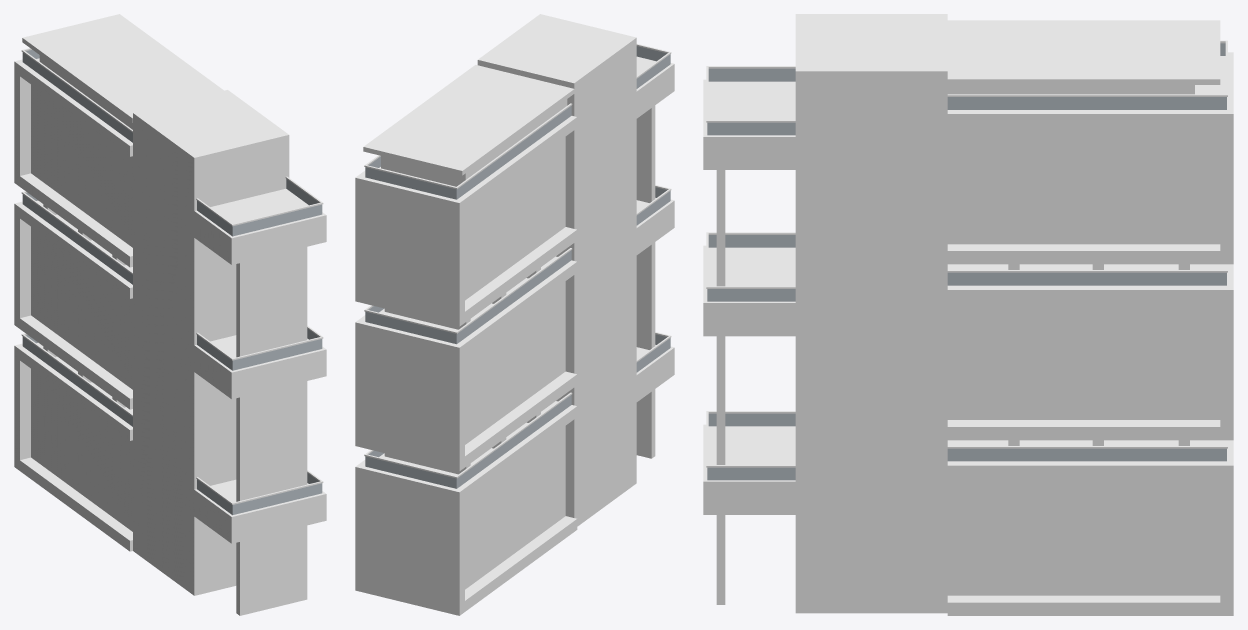
The model's file is fbx_building_7.fbx.
3 renders of one model, left to right at view 1: azimuth 30°, elevation 25°; view 2: azimuth 150°, elevation 25°; view 3: azimuth 270°, elevation 25°, orthographic. The views are drawn at different scales.
Visible parts, largest first — view 1: fbx_building_7; view 2: fbx_building_7; view 3: fbx_building_7.
Boxes of the visible parts, x1,y1,x2,y2 form: fbx_building_7: (14,14,326,615); fbx_building_7: (355,14,674,615); fbx_building_7: (703,14,1233,615).
Bounding box in the file's own units: 9.31 × 38.02 × 33.74.
2 materials, 1 textured.
